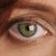eye: (18, 22, 37, 37)
